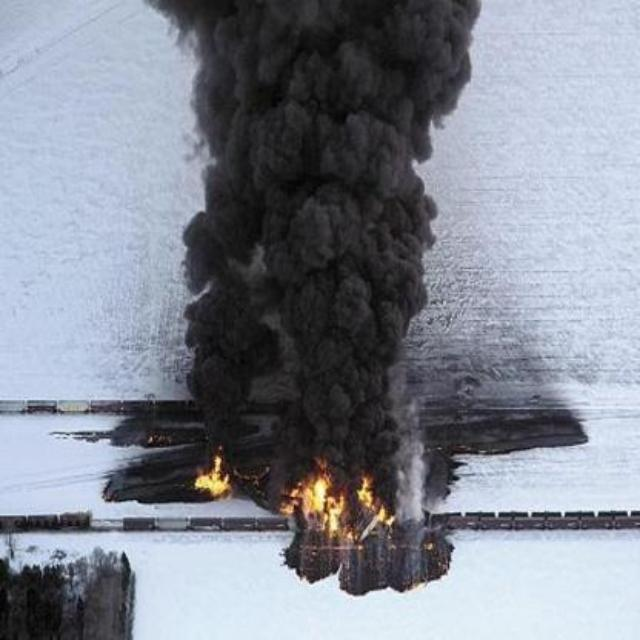Fire: (278, 454, 397, 552), (197, 449, 229, 495)
Smoke: (155, 0, 427, 450)
